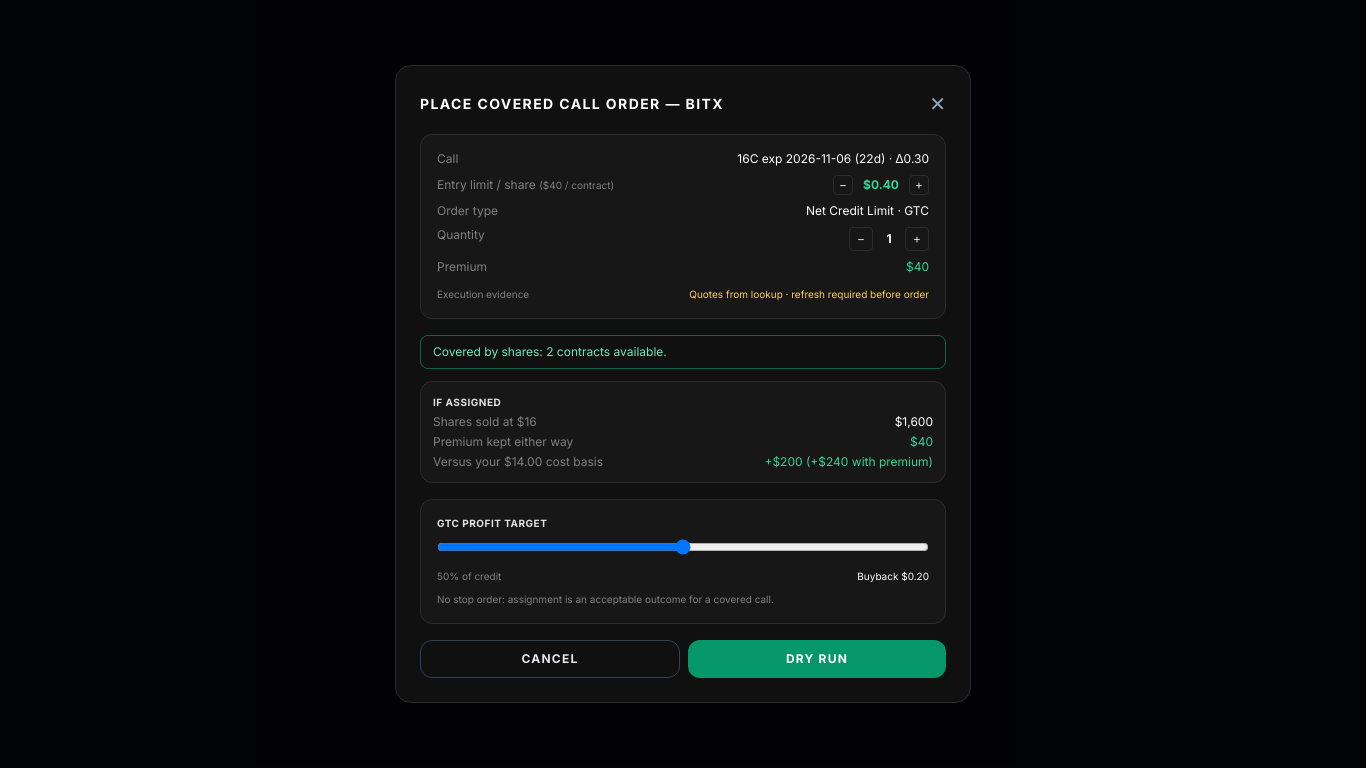
Test: CcTradeModal › refuses at place time if coverage disappears after the dry run
Click the button "DRY RUN": (817, 659) [688,640,946,678]
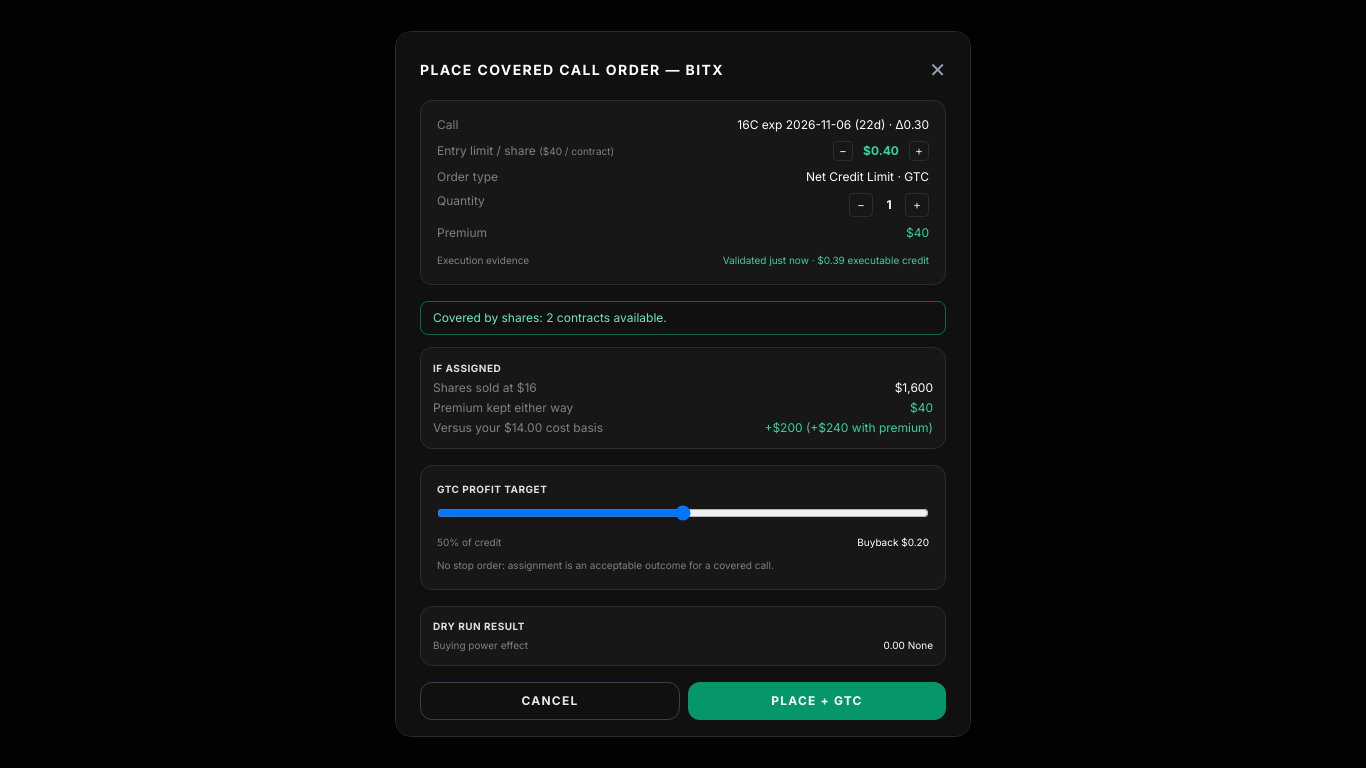
Click the button "PLACE + GTC": (817, 701) [688,682,946,720]
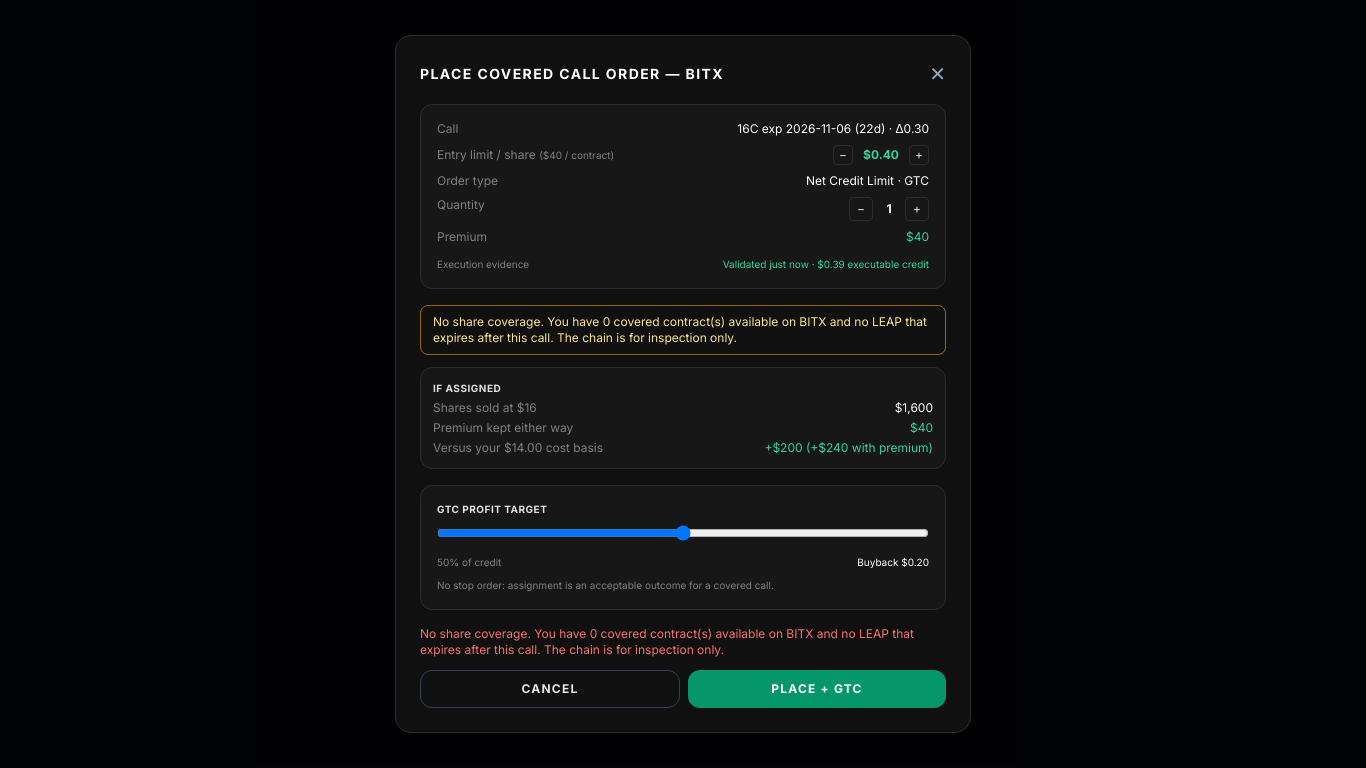
Now the message is shown, box [420,626,946,658]
